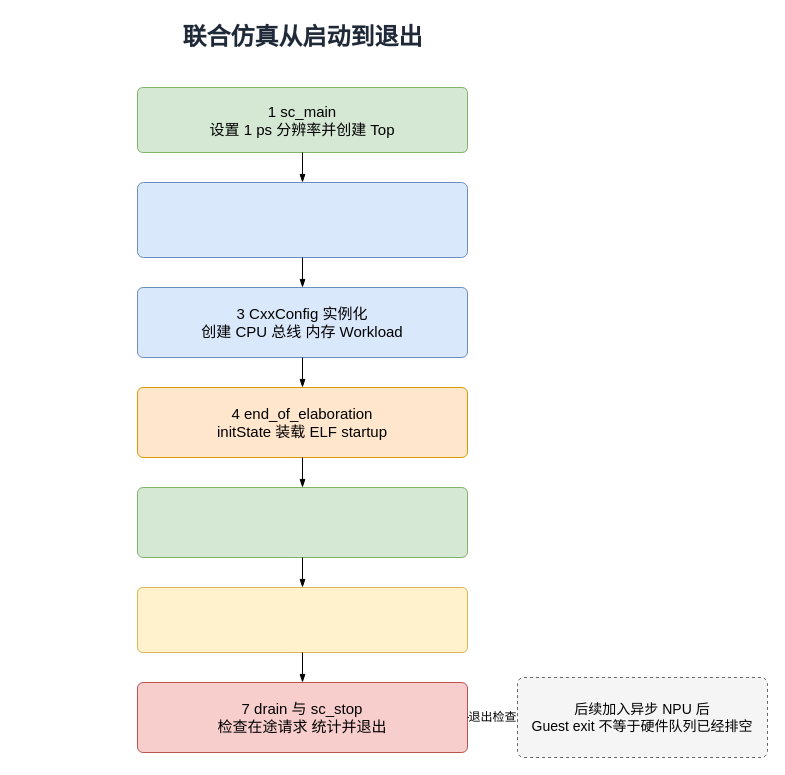
Image size: 785x775. Some labels were removed from this diagram. Here are the shapes that lost their labels. From the top down, the box of each, then its label:
(136, 182, 468, 258): 2 Gem5Host 构造 初始化日志 统计 EventQueue 读取 config.ini
(136, 486, 468, 558): 5 sc_start 与 simulate SystemC 推进 gem5 EventQueue
(136, 586, 468, 652): 6 Guest exit GlobalSimLoopExitEvent
